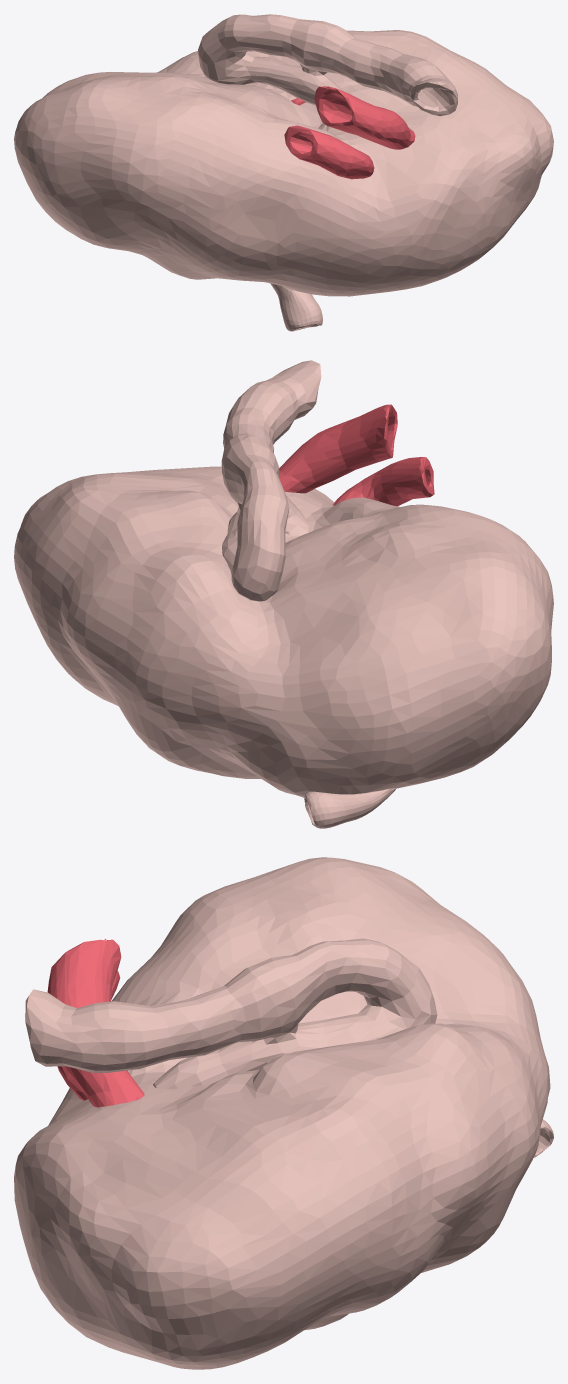
File: NIH_M_Lymph_Node_0.4.glb
3 renders of one model, top to bottom at view 1: azimuth 30°, elevation 25°; view 2: azimuth 150°, elevation 25°; view 3: azimuth 270°, elevation 25°, orthographic. The views are drawn at different scales.
Parts seen in each view (by area): view 1: Yao_capsule_of_lymph_node, Yao_efferent_lymph_node, Yao_blood_vasculature, Yao_afferent_lymphatic_vessel; view 2: Yao_capsule_of_lymph_node, Yao_efferent_lymph_node, Yao_blood_vasculature, Yao_afferent_lymphatic_vessel; view 3: Yao_capsule_of_lymph_node, Yao_efferent_lymph_node, Yao_blood_vasculature.
Boxes of the visible parts, x1=… form: Yao_capsule_of_lymph_node: x1=14, y1=30, x2=553, y2=296; Yao_efferent_lymph_node: x1=198, y1=14, x2=457, y2=132; Yao_blood_vasculature: x1=284, y1=86, x2=415, y2=179; Yao_afferent_lymphatic_vessel: x1=270, y1=283, x2=322, y2=331; Yao_capsule_of_lymph_node: x1=14, y1=466, x2=553, y2=797; Yao_efferent_lymph_node: x1=221, y1=360, x2=321, y2=601; Yao_blood_vasculature: x1=279, y1=404, x2=434, y2=506; Yao_afferent_lymphatic_vessel: x1=304, y1=788, x2=396, y2=828; Yao_capsule_of_lymph_node: x1=14, y1=857, x2=550, y2=1369; Yao_efferent_lymph_node: x1=25, y1=938, x2=437, y2=1088; Yao_blood_vasculature: x1=47, y1=939, x2=144, y2=1107.
Bounding box in the file's own units: 0.0183 × 0.0107 × 0.013.
